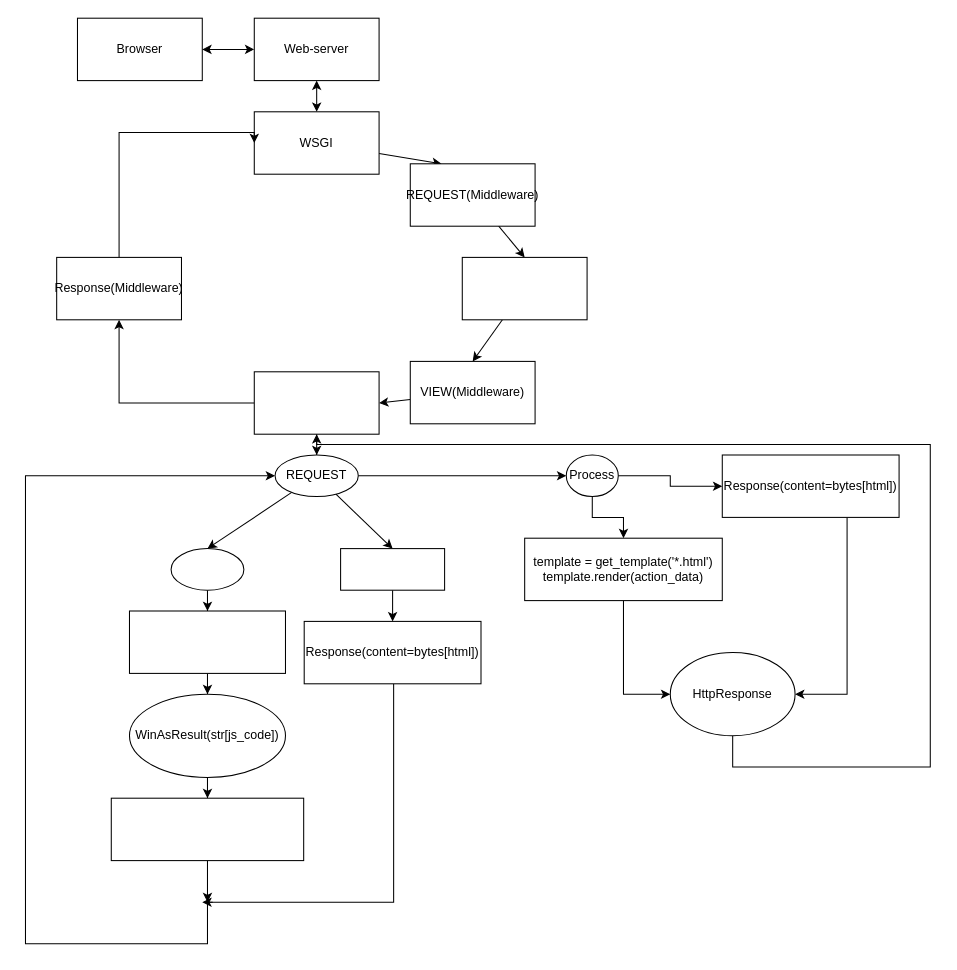
This 957x970 diagram has some shape labels left out. The centre of each missing label's shape, as x and y in pixels:
"Action(ContractEditWindow)" goes at [206,641].
"BuildContext" goes at [207,569].
"Responce(content=bytes[js_code])" goes at [207,829].
"URL RESOLUTION(ursl.py)" goes at [524,288].
"VIEW(views.py)" goes at [316,402].
"VIEW(workspace)" goes at [392,569].
